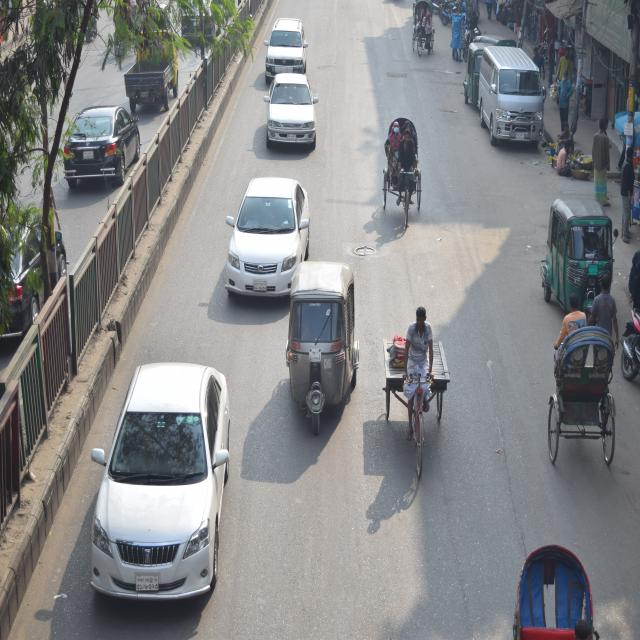car: (92, 360, 236, 610), (227, 165, 306, 312), (62, 80, 139, 188), (264, 68, 320, 150), (268, 16, 302, 75)
microbus: (469, 29, 550, 154)
